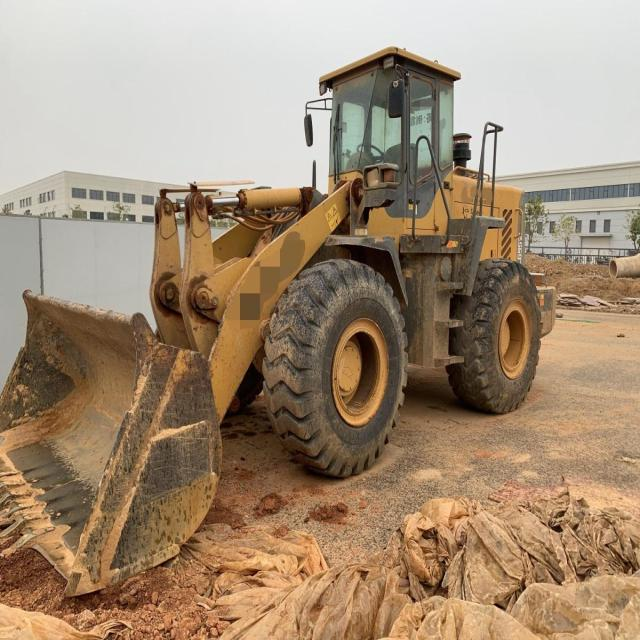machinery: (0, 37, 563, 614)
